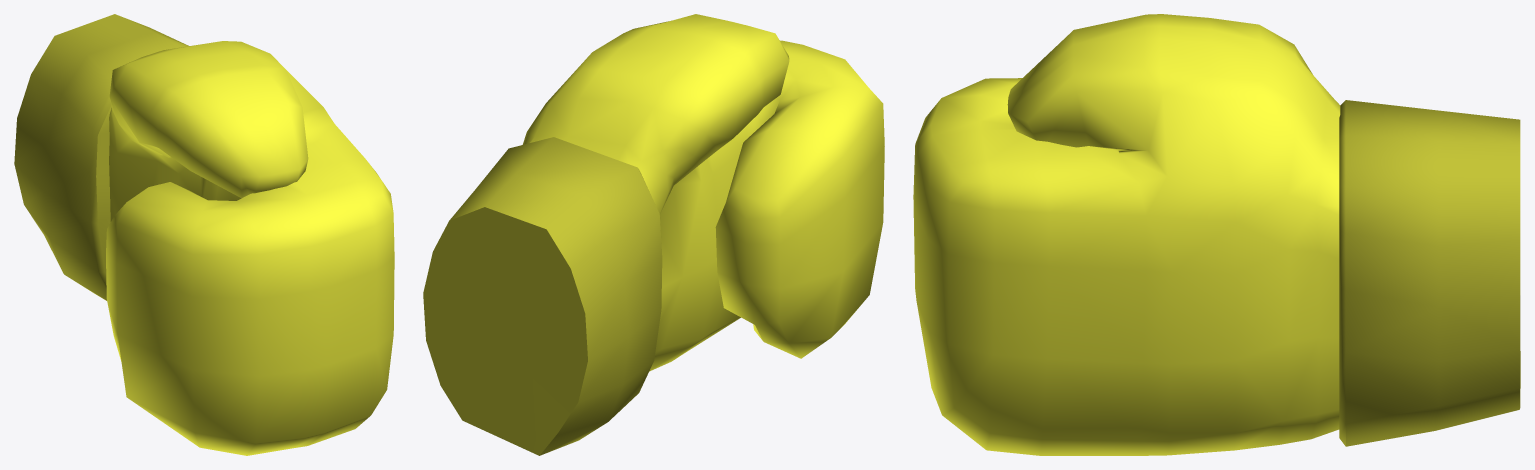
The model's file is leftglove.gltf.
The picture shows the model from 3 angles, left to right: view 1: azimuth 30°, elevation 25°; view 2: azimuth 150°, elevation 25°; view 3: azimuth 270°, elevation 25°; orthographic projection. The views are drawn at different scales.
Parts seen in each view (by area): view 1: Hand, Band; view 2: Hand, Band; view 3: Hand, Band.
Part boxes in pixels (x1,y1,x2,y2): Hand: (106, 41, 394, 455); Band: (14, 14, 189, 300); Hand: (522, 14, 884, 371); Band: (423, 137, 662, 455); Hand: (913, 14, 1340, 455); Band: (1339, 100, 1520, 446).
Bounding box in the file's own units: 0.1122 × 0.1399 × 0.202.
1 material, 1 textured.
